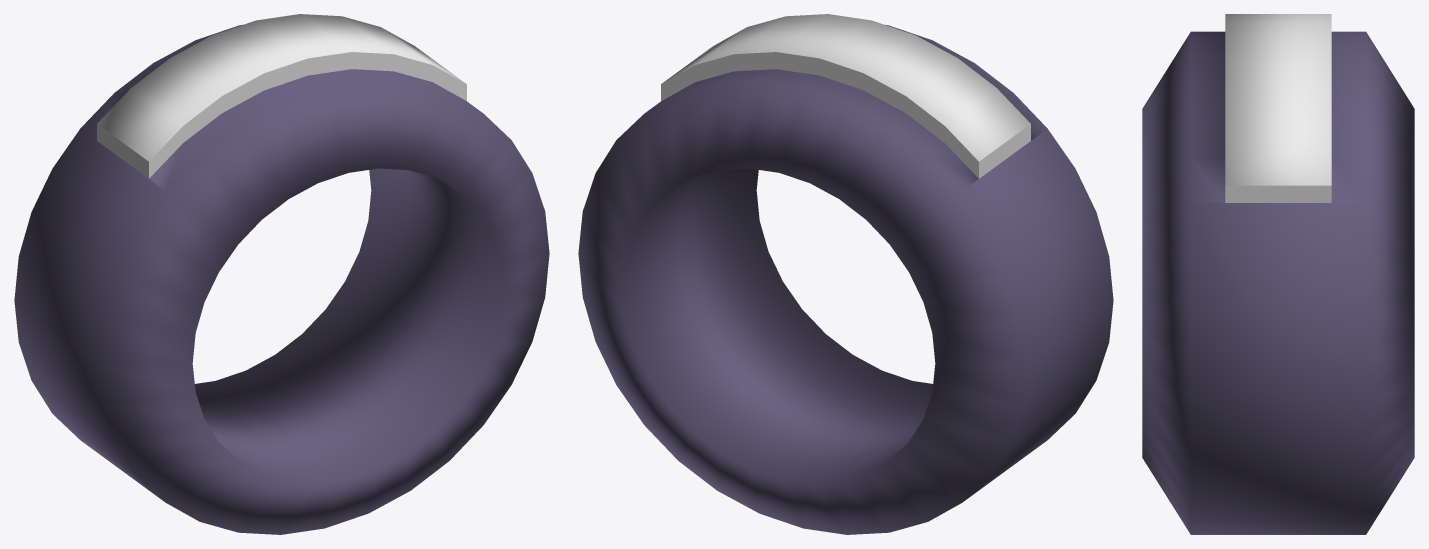
Rendered from wristband.fbx.
The picture shows the model from 3 angles, left to right: view 1: azimuth 30°, elevation 25°; view 2: azimuth 150°, elevation 25°; view 3: azimuth 270°, elevation 25°; orthographic projection. The views are drawn at different scales.
Parts seen in each view (by area): view 1: Cylinder; view 2: Cylinder; view 3: Cylinder.
Part boxes in pixels (box(x1,y1,x2,y2)): Cylinder: box(14, 14, 549, 534); Cylinder: box(578, 14, 1113, 534); Cylinder: box(1142, 14, 1414, 534).
Bounding box in the file's own units: 200 × 195 × 102.
